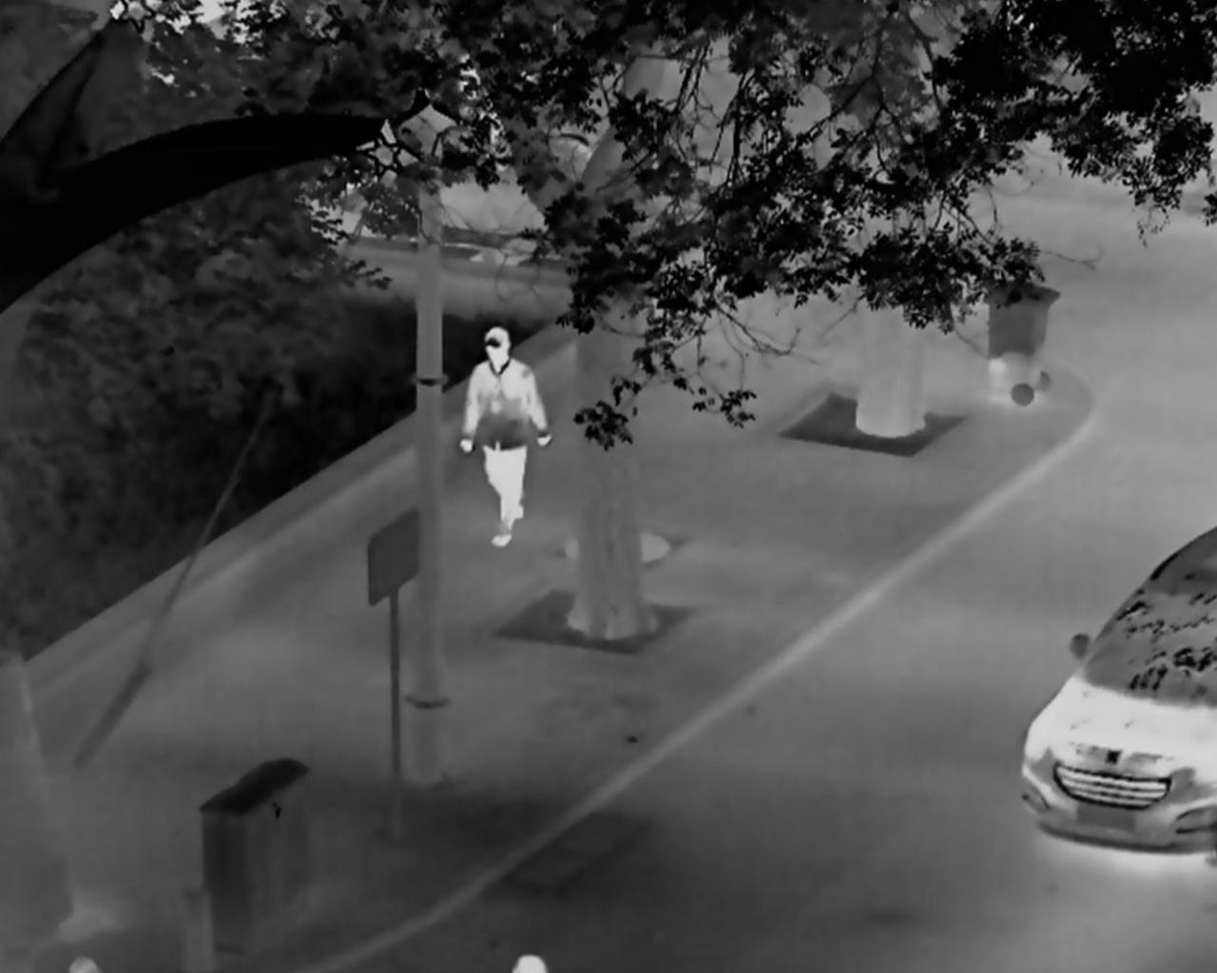person: (457, 325, 552, 546), (507, 952, 547, 973), (67, 954, 108, 973)
